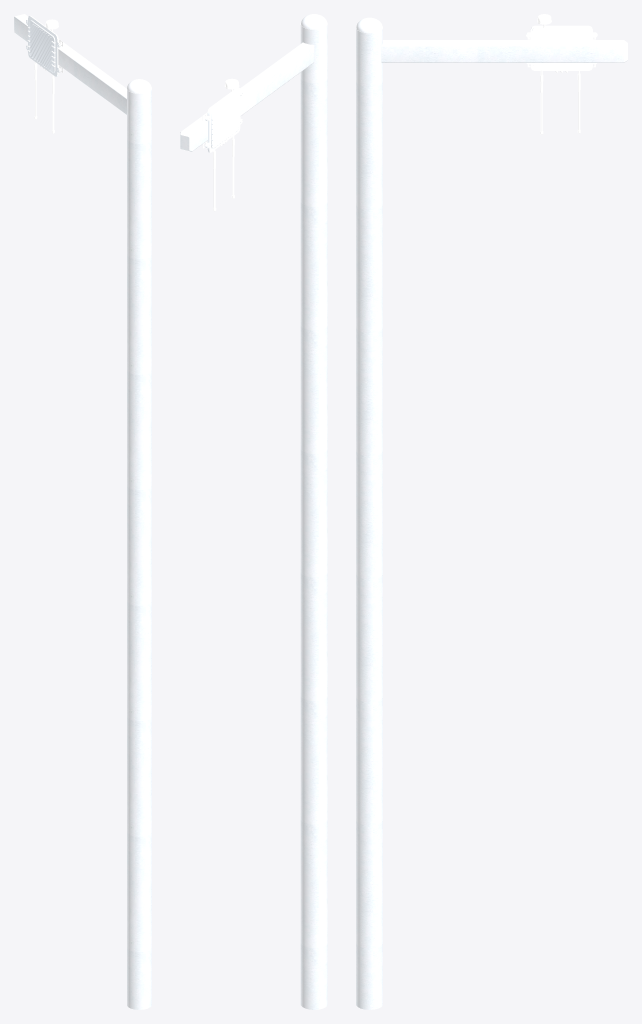
The model's file is RSU_1.glb.
3 renders of one model, left to right at view 1: azimuth 30°, elevation 25°; view 2: azimuth 150°, elevation 25°; view 3: azimuth 270°, elevation 25°, orthographic. The views are drawn at different scales.
Visible parts, largest first — view 1: RSU_1; view 2: RSU_1; view 3: RSU_1.
Part boxes in pixels (x1=…): RSU_1: x1=14, y1=14, x2=151, y2=1009; RSU_1: x1=180, y1=14, x2=327, y2=1009; RSU_1: x1=356, y1=14, x2=627, y2=1009.
Bounding box in the file's own units: 0.101 × 4 × 1.
Materials: 4 (1 with a texture image).
